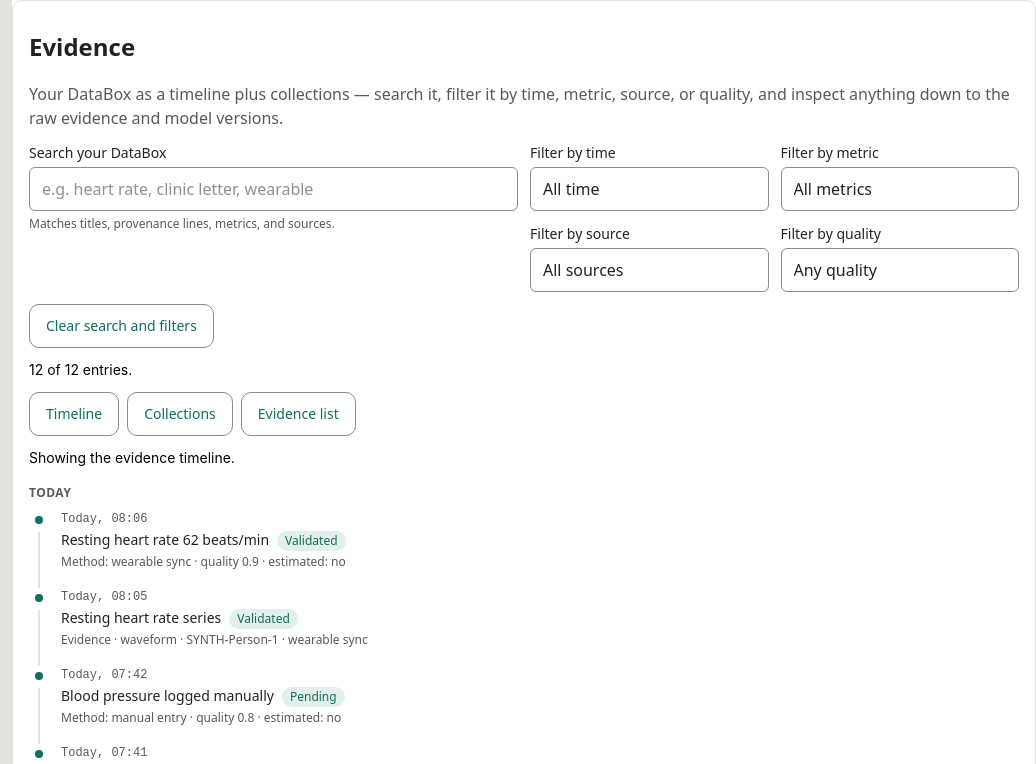
Test: DataboxWorkspace (the §DataBox UX model) › still offers the sortable evidence LIST view (the M3-B table)
This screenshot has width=1036, height=764.
Click the button "Evidence list" at [298, 414], box x1=241 y1=392 x2=356 y2=436
(page scrolled)
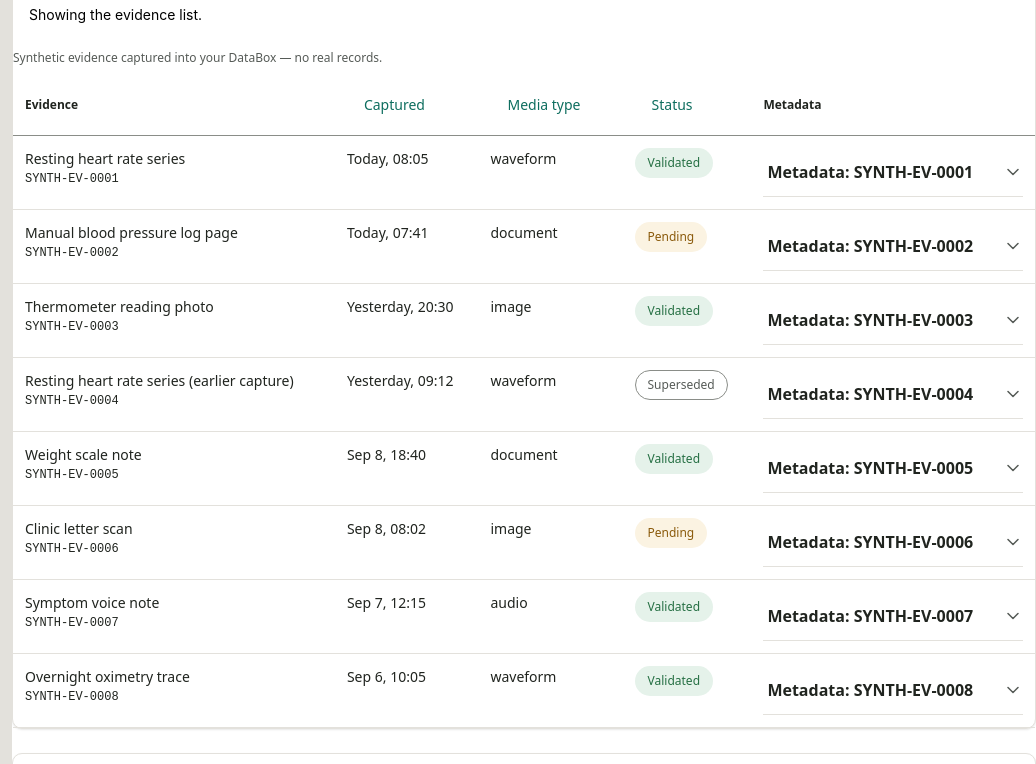
expect the text "Showing the evidence list." is shown: met, box x1=29 y1=6 x2=202 y2=23
expect the table is shown: met
expect the number of rows is 9: met
